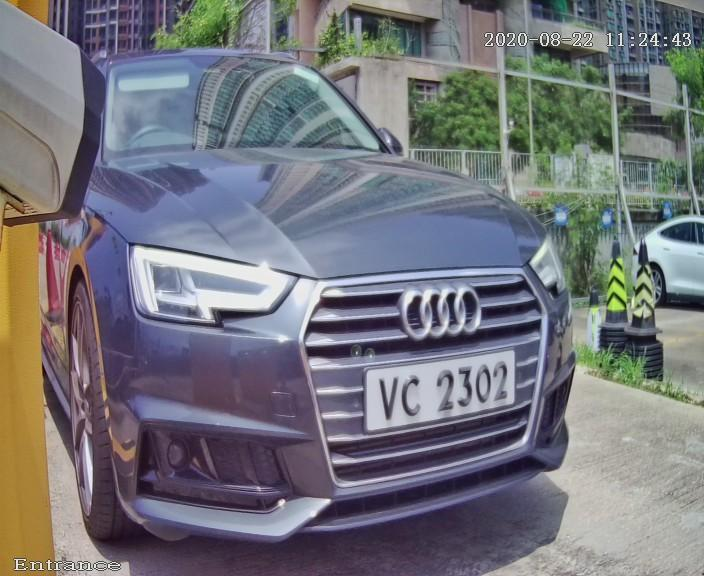Car: (1, 8, 632, 571)
License Plate: (356, 342, 522, 435)
